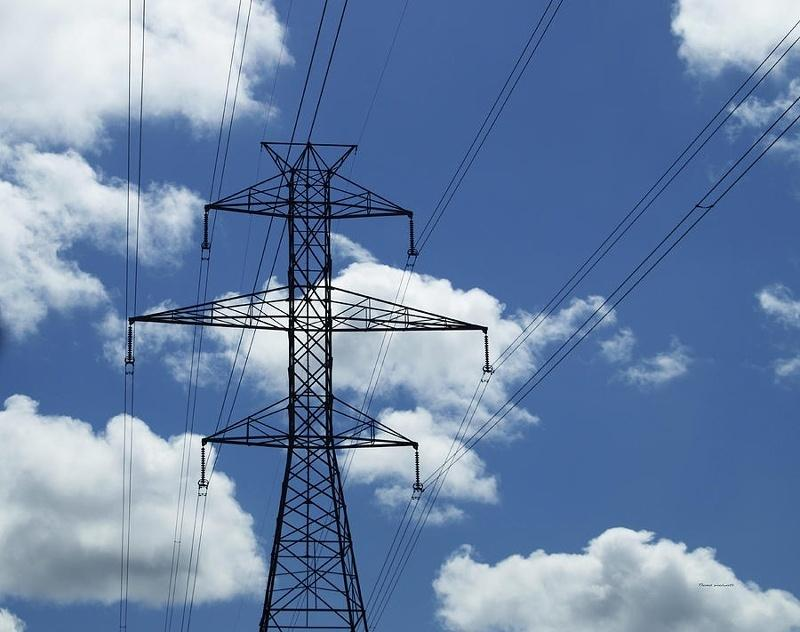power_tower: (107, 123, 530, 623)
